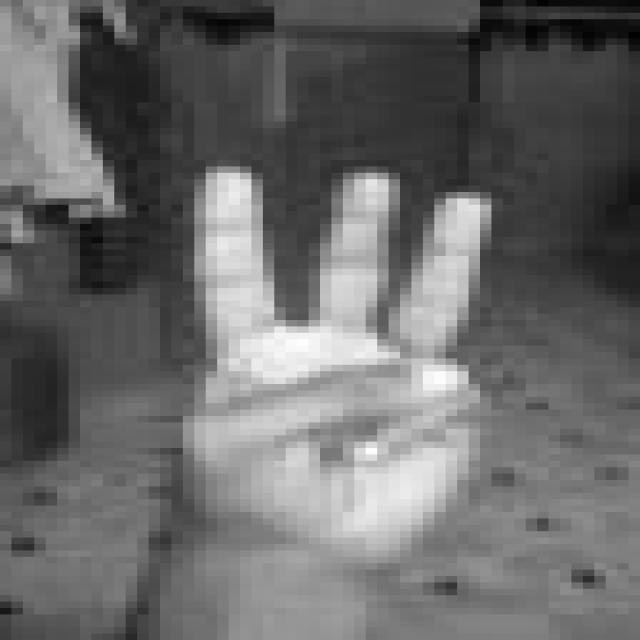W: (148, 163, 503, 547)
